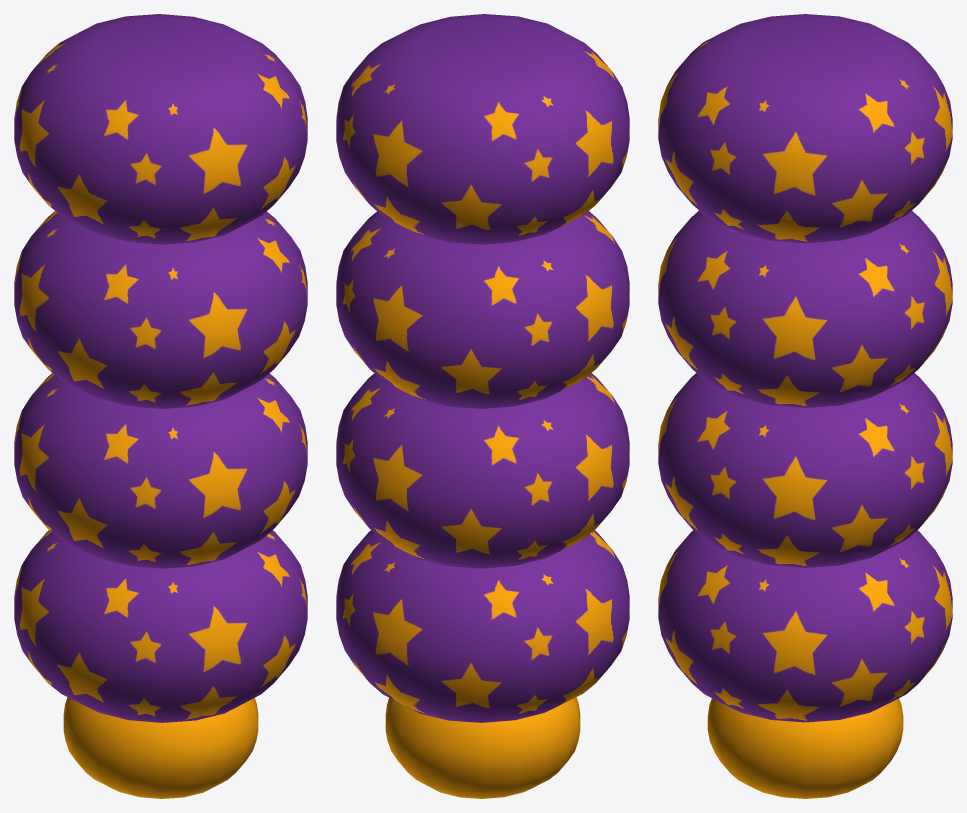
Rendered from moving.fbx.
3 views of the same model, side by side, from view 1: azimuth 30°, elevation 25°; view 2: azimuth 150°, elevation 25°; view 3: azimuth 270°, elevation 25° (orthographic).
Visible parts, largest first — view 1: Towers; view 2: Towers; view 3: Towers.
Boxes of the visible parts, x1=… form: Towers: x1=14, y1=14, x2=307, y2=798; Towers: x1=336, y1=14, x2=629, y2=798; Towers: x1=658, y1=14, x2=952, y2=798.
Bounding box in the file's own units: 9.47 × 25.62 × 9.32.
